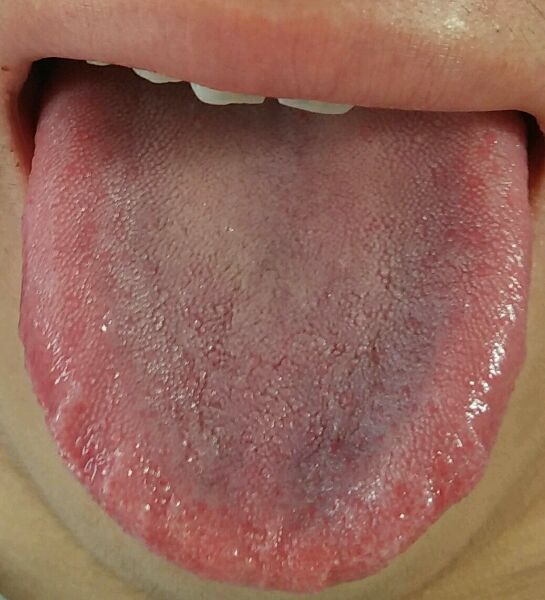hongshe: (19, 70, 533, 591)
huangtaishe: (19, 70, 533, 591)
